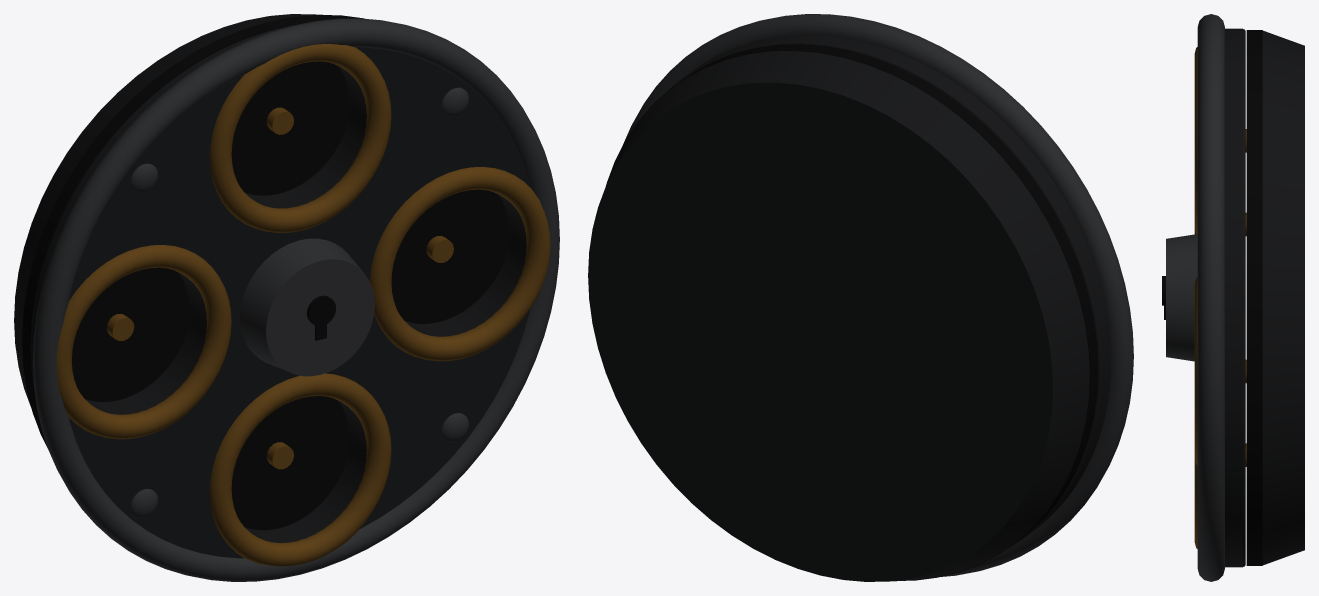
Rendered from coin-lock.obj.
3 views of the same model, side by side, from view 1: azimuth 30°, elevation 25°; view 2: azimuth 150°, elevation 25°; view 3: azimuth 270°, elevation 25° (orthographic). The views are drawn at different scales.
Visible parts, largest first — view 1: dial_faceplate, socket_floor, dial_band, centre_boss, socket_rim_3, socket_rim_4, socket_rim_1, socket_rim_2, back_shell, keyhole_bore; view 2: back_shell, dial_band, dial_faceplate, socket_floor; view 3: back_shell, dial_band, dial_faceplate, socket_floor, centre_boss, socket_rim_1, socket_rim_4, socket_rim_3.
Boxes of the visible parts, x1,y1,x2,y2 form: dial_faceplate: (31,25,530,558); socket_floor: (22,15,508,530); dial_band: (33,18,559,581); centre_boss: (240,238,374,376); socket_rim_3: (209,373,391,566); socket_rim_4: (370,167,550,361); socket_rim_1: (209,44,391,232); socket_rim_2: (56,245,231,439); back_shell: (14,14,322,407); keyhole_bore: (307,295,336,326); back_shell: (588,50,1089,581); dial_band: (623,14,1133,576); dial_faceplate: (669,34,1110,550); socket_floor: (606,44,1098,580); back_shell: (1262,30,1304,565); dial_band: (1197,14,1224,581); dial_faceplate: (1225,28,1245,567); socket_floor: (1246,30,1262,565); centre_boss: (1166,234,1197,361); socket_rim_1: (1194,47,1197,234); socket_rim_4: (1194,277,1197,464); socket_rim_3: (1194,459,1197,548).
Size of the model in its own units: 0.121 by 0.121 by 0.0304.
